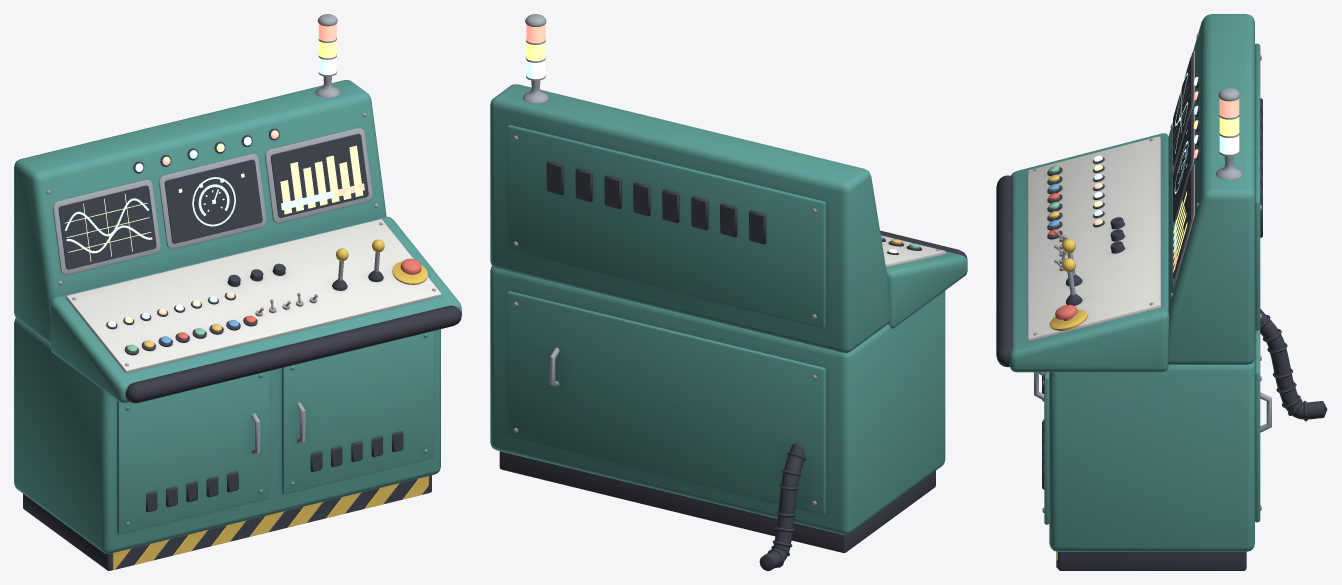
Rendered from industrial-control-panel.glb.
3 views of the same model, side by side, from view 1: azimuth 30°, elevation 25°; view 2: azimuth 150°, elevation 25°; view 3: azimuth 270°, elevation 25° (orthographic). The views are drawn at different scales.
Parts seen in each view (by area): view 1: industrial-control-panel_body, industrial-control-panel_monitor2_lens, industrial-control-panel_monitor0_lens, industrial-control-panel_stack_light_lens, industrial-control-panel_monitor1_lens; view 2: industrial-control-panel_body, industrial-control-panel_stack_light_lens; view 3: industrial-control-panel_body, industrial-control-panel_stack_light_lens, industrial-control-panel_monitor2_lens.
Part boxes in pixels (x1,y1,x2,y2): industrial-control-panel_body: [14, 14, 461, 570]; industrial-control-panel_monitor2_lens: [280, 145, 364, 214]; industrial-control-panel_monitor0_lens: [64, 194, 152, 261]; industrial-control-panel_stack_light_lens: [318, 23, 336, 74]; industrial-control-panel_monitor1_lens: [178, 173, 244, 226]; industrial-control-panel_body: [490, 14, 967, 570]; industrial-control-panel_stack_light_lens: [526, 24, 545, 79]; industrial-control-panel_body: [996, 14, 1327, 570]; industrial-control-panel_stack_light_lens: [1219, 98, 1239, 154]; industrial-control-panel_monitor2_lens: [1173, 191, 1187, 272].
Size of the model in its own units: 1.52 by 1.81 by 1.16.
20 materials, 1 textured.
